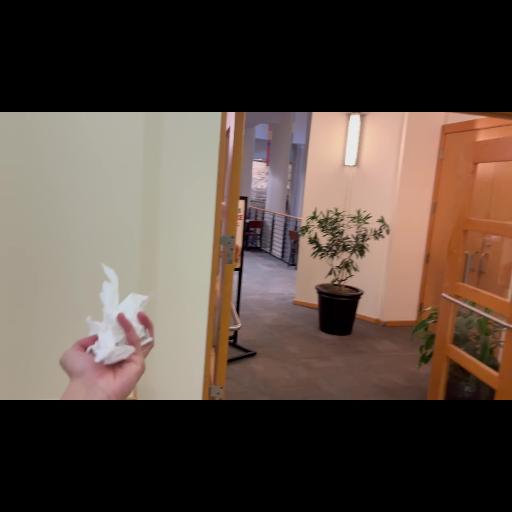napkin: (92, 262, 158, 370)
